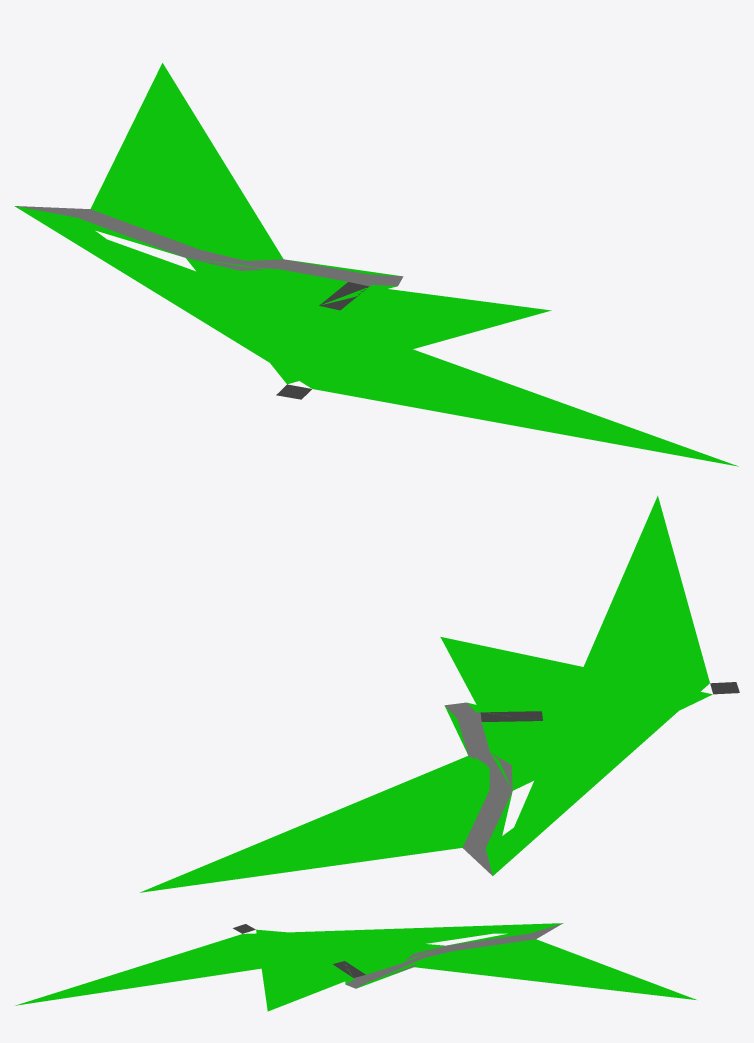
3 views of the same model, one above another, from view 1: azimuth 30°, elevation 25°; view 2: azimuth 150°, elevation 25°; view 3: azimuth 270°, elevation 25° (orthographic). The views are drawn at different scales.
Bounding box in the file's own units: 59.27 × 0 × 172.
